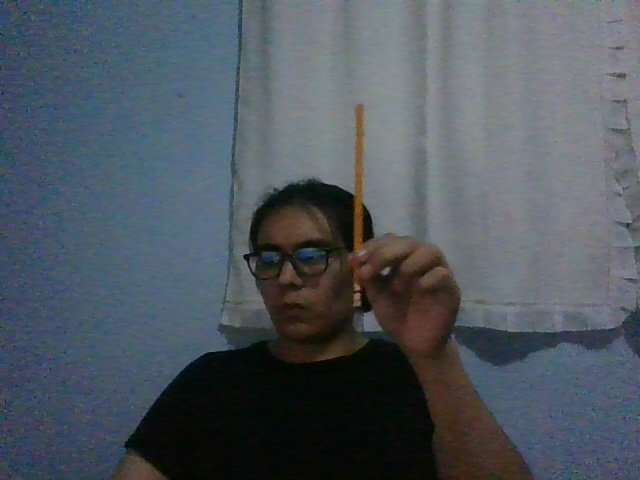lapiz: (352, 103, 366, 308)
